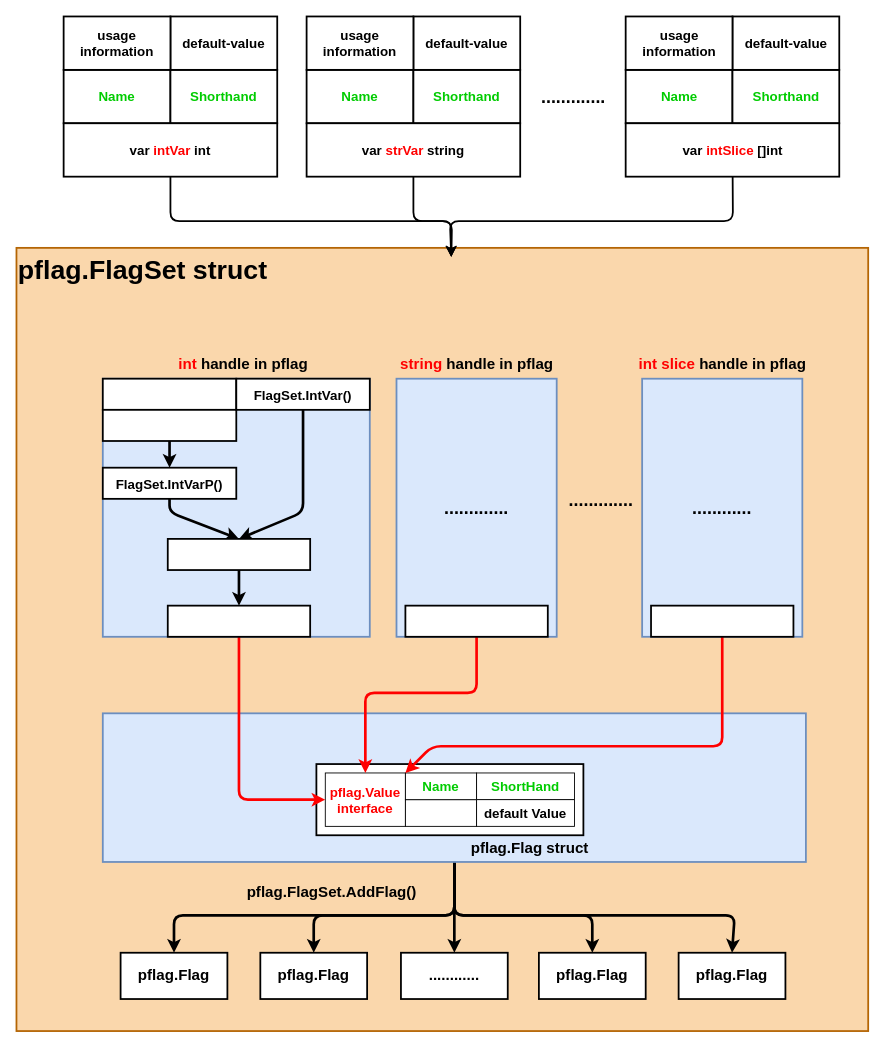
Image size: 888x1047. Some labels were removed from this diagram. The box of each missing label's shape, as (x1, y1, x2, y2) in pixels:
FlagSet.Int(): (101, 377, 237, 410)
FlagSet.IntP(): (101, 409, 237, 441)
pflag. intSliceVlaue: (650, 604, 794, 637)
pflag. intVlaue: (166, 604, 311, 637)
pflag. stringVlaue: (404, 604, 548, 637)
pflag.FlagSet.VarF(): (101, 712, 806, 862)
pflag.newIntValue(): (166, 538, 311, 570)
Usage: (405, 799, 477, 826)
